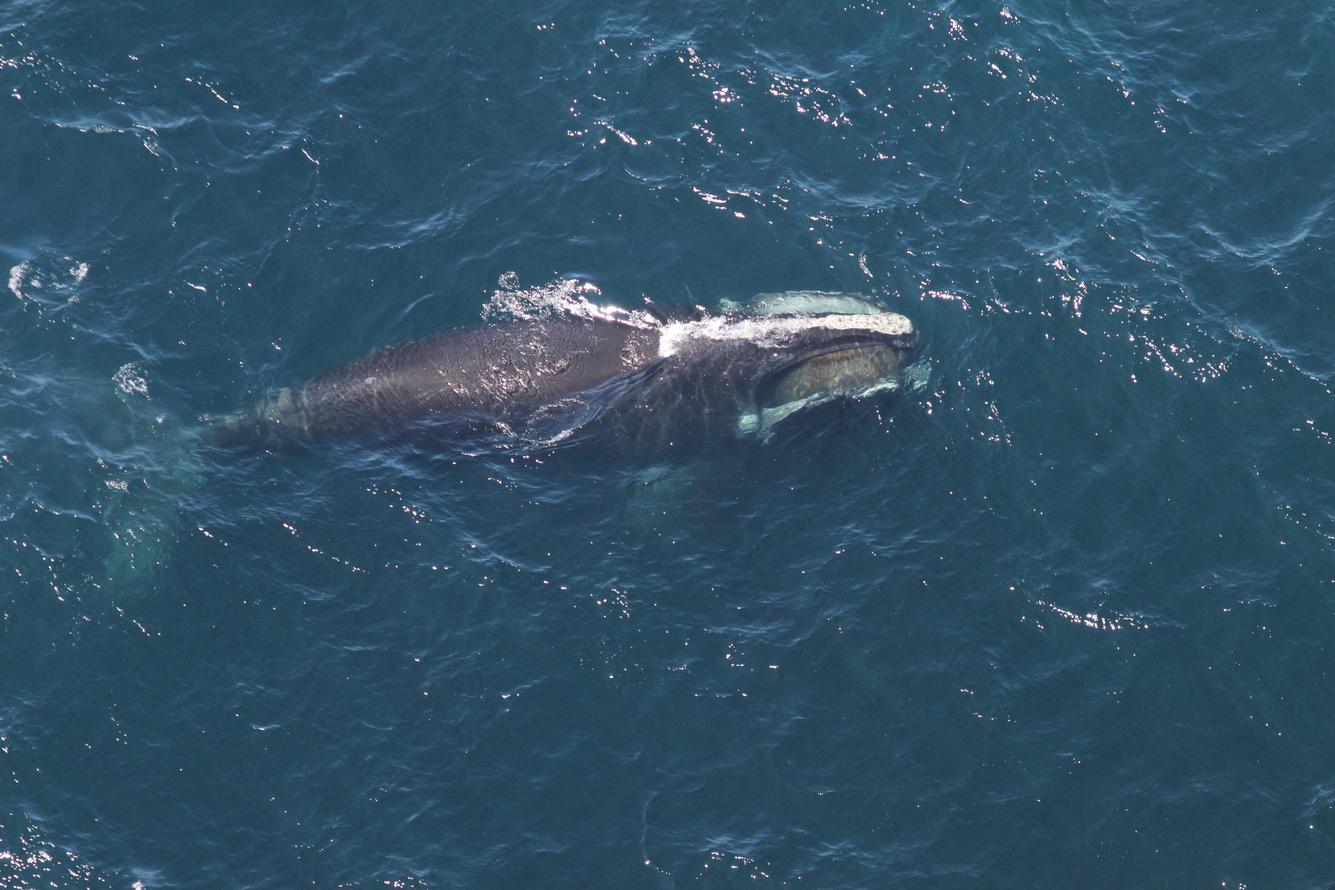whale: (43, 279, 940, 633)
